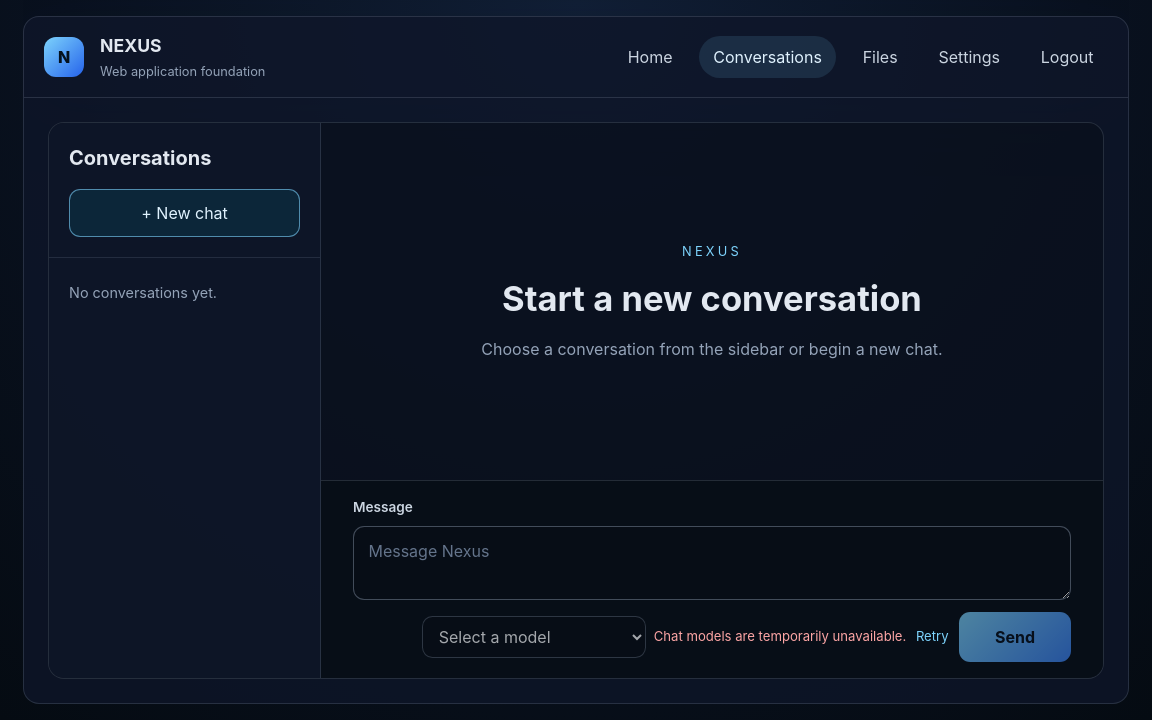
Test case: App › logs out from the main navigation
Step 1. Click the button "Logout" → (1067, 57), box [1026,36,1108,78]
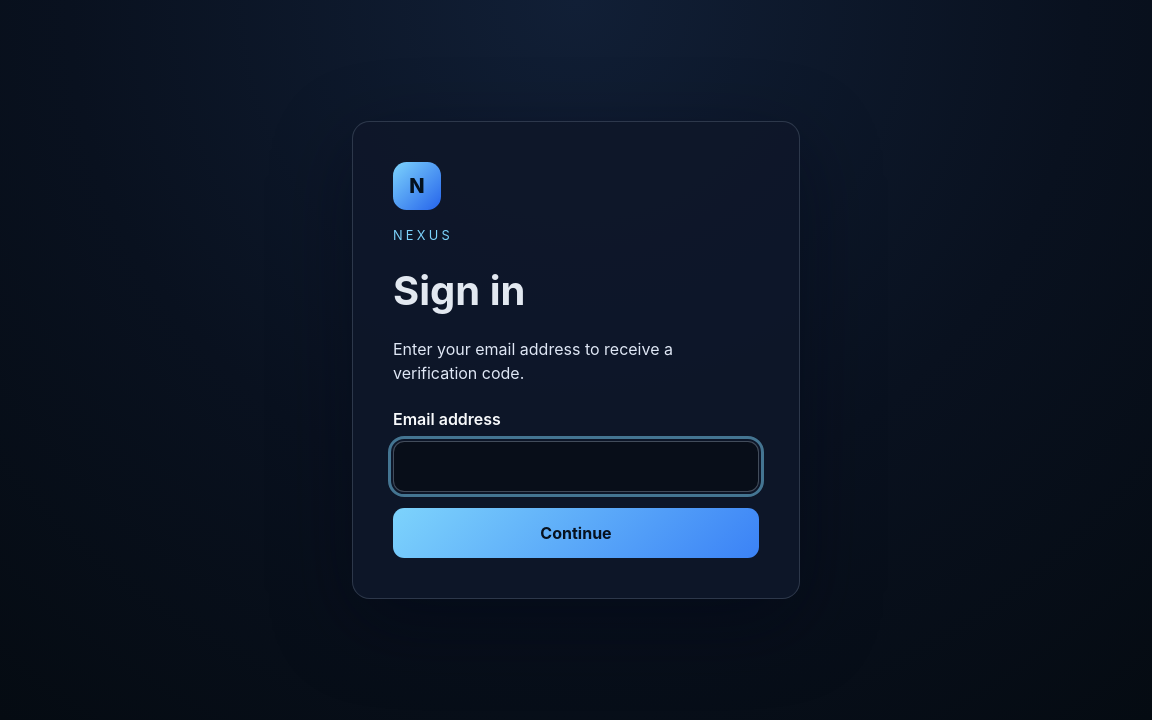
Now the heading "Sign in" is shown, box [393,266,525,315]
